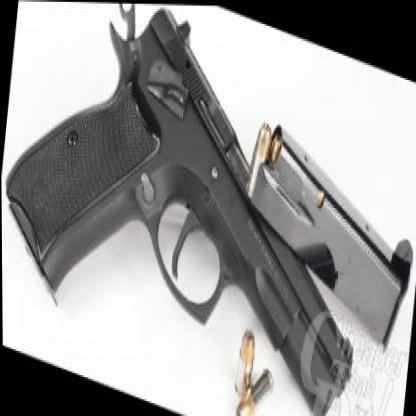pistol: (0, 0, 389, 410)
